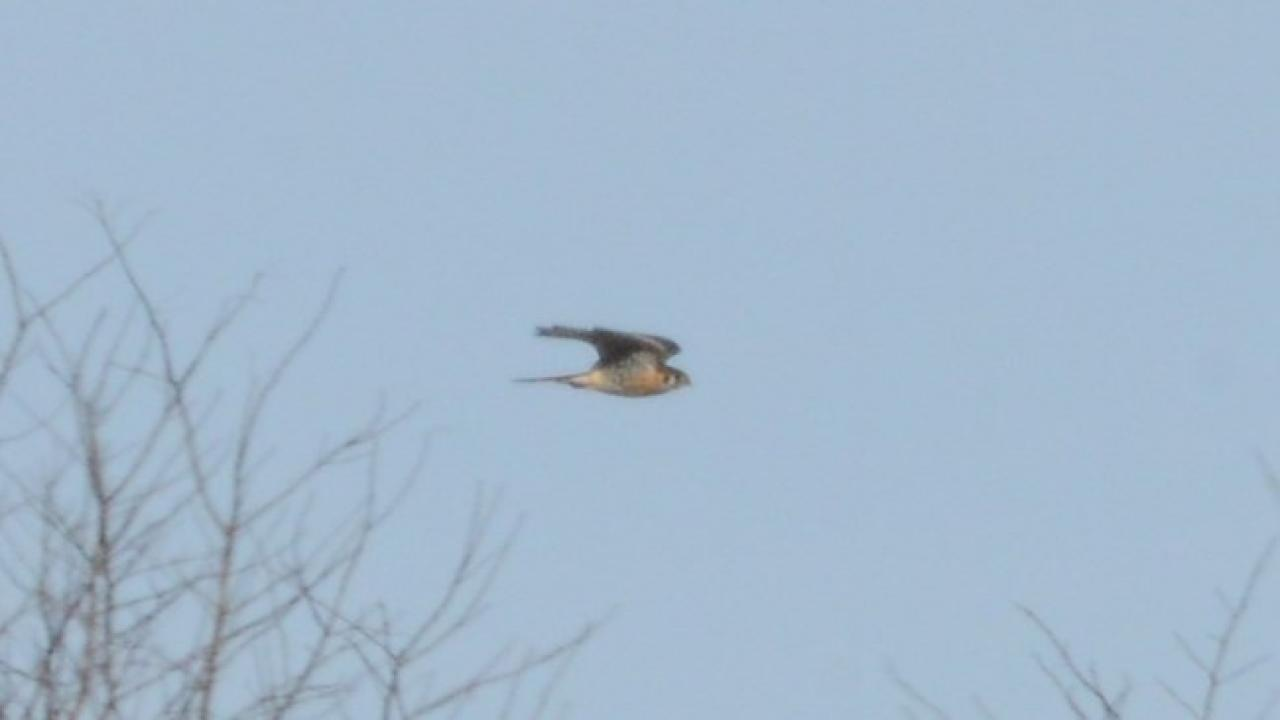Bird: (500, 310, 708, 413)
